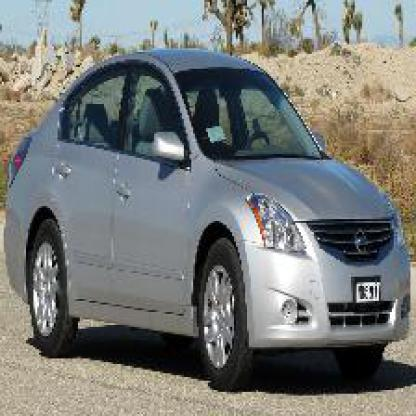not_emergency: (11, 52, 414, 405)
